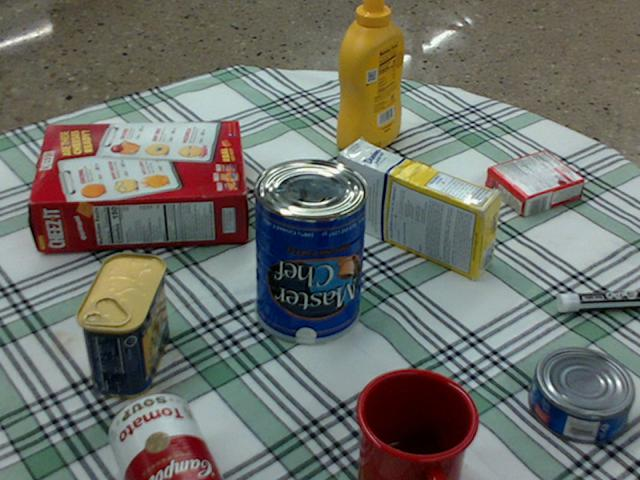cracker_box: (29, 121, 244, 251)
gelatin_box: (484, 150, 582, 217)
large_marker: (557, 290, 639, 311)
master_chef_can: (254, 158, 368, 343)
mug: (352, 368, 476, 479)
mustard_bottle: (335, 0, 403, 154)
potted_meat_can: (77, 252, 167, 397)
sugar_box: (335, 140, 501, 279)
tomato_soup_can: (108, 392, 219, 479)
tuna_fish_can: (529, 348, 634, 443)
